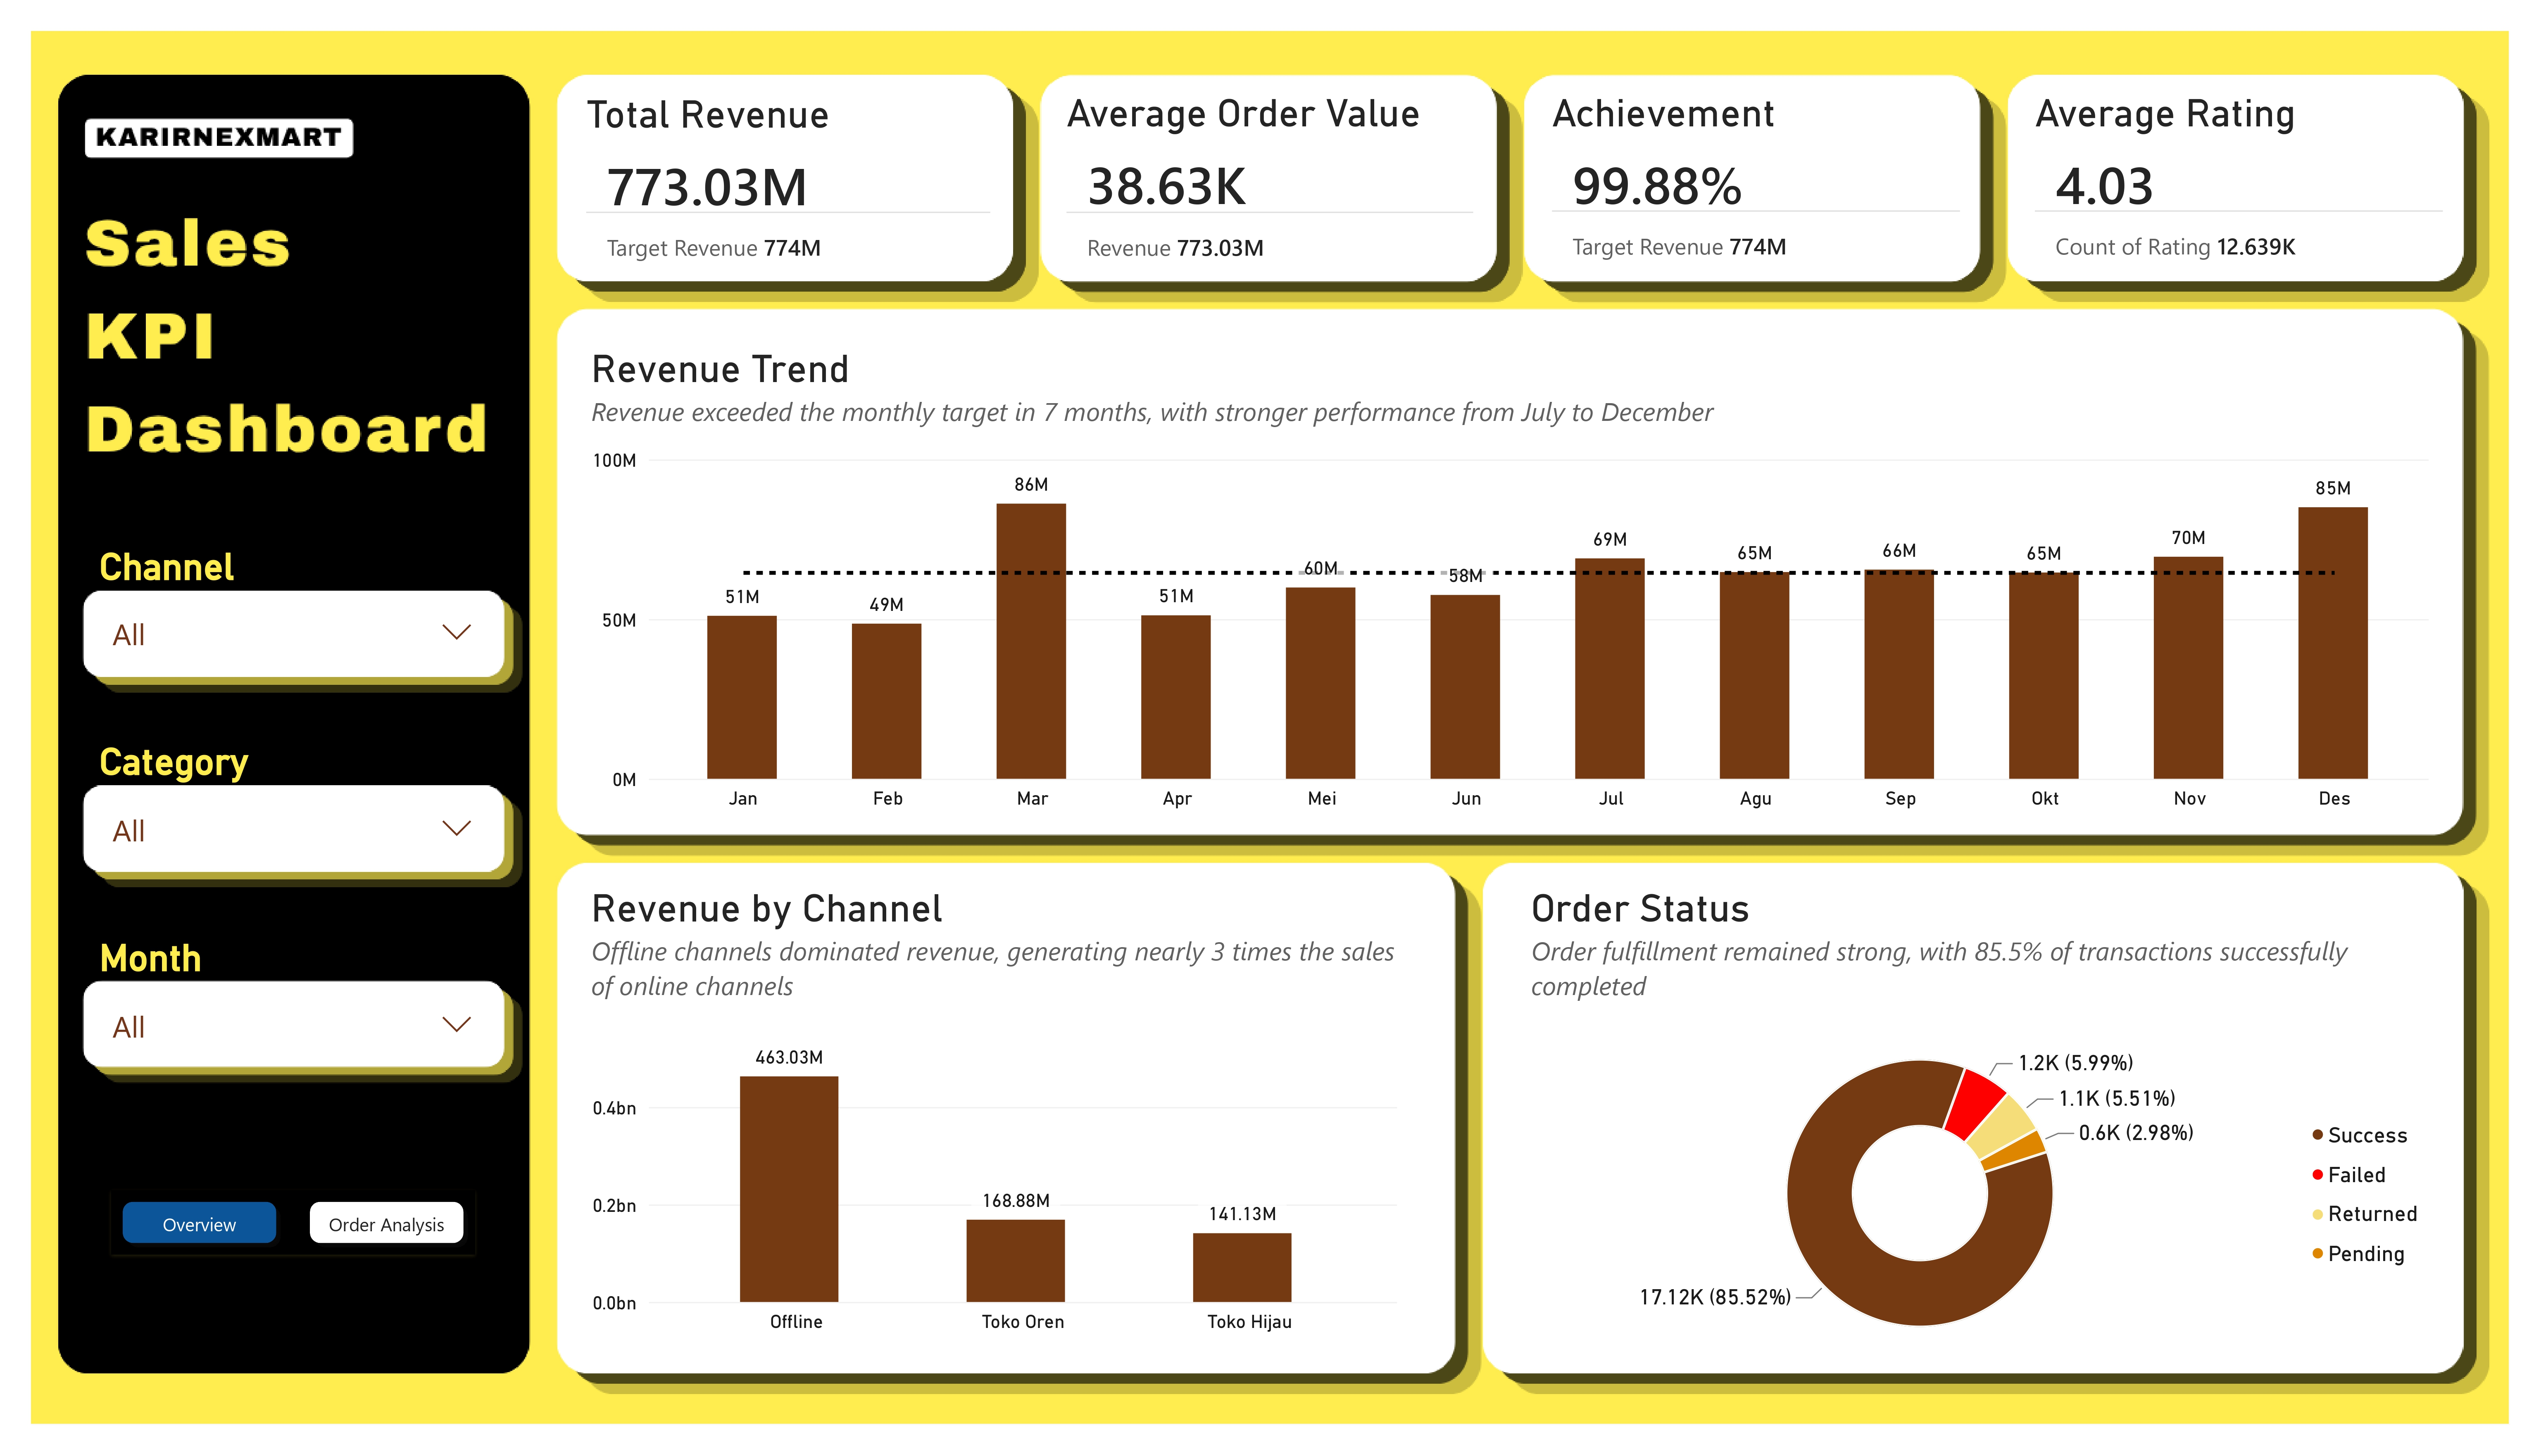

The dashboard page shown, as its layout file describes it:
{"tool":"powerbi","page":{"name":"Overview","canvas":[1920,1080],"ordinal":0},"visuals":[{"type":"image","box":[0,0,1919.3,1078.9],"z":0},{"type":"donutChart","title":"Order Status","fields":{"Category":["Sales.status"],"Y":["CountNonNull(Sales.order_id)"]},"box":[1146,662,728,388],"z":1000},{"type":"lineStackedColumnComboChart","title":"Revenue Trend","fields":{"Category":["Bulan_Target.month_name"],"Y":["Bulan_Target.Revenue"],"Y2":["Bulan_Target.Avg Target Revenue"]},"box":[417.5,230,1455,390],"z":2000},{"type":"cardVisual","title":"Average Rating","fields":{"Data":["Bulan_Target.Avg Rating"]},"box":[1552,46,316,136],"z":3000},{"type":"cardVisual","title":"Total Revenue","fields":{"Data":["Bulan_Target.Revenue"]},"box":[430,46.7,313.3,136.7],"z":4000},{"type":"cardVisual","title":"Achievement","fields":{"Data":["Bulan_Target.Achievement %"]},"box":[1178,46,316.7,136.7],"z":5000},{"type":"lineStackedColumnComboChart","title":"Revenue by Channel","fields":{"Category":["Sales.channel"],"Y":["Bulan_Target.Revenue"]},"box":[418,648,656,378],"z":6000},{"type":"slicer","fields":{"Values":["Sales.channel"]},"box":[52.2,440.6,300,56.7],"z":7000},{"type":"slicer","title":"Tes","fields":{"Values":["Products.category"]},"box":[52.2,592.8,300,56.7],"z":8000},{"type":"slicer","title":"Tes","fields":{"Values":["Bulan_Target.month_name"]},"box":[52.2,745,300,56.7],"z":9000},{"type":"textbox","box":[52.5,397.5,299.8,43.2],"z":10000},{"type":"textbox","box":[52.5,548.8,299.8,43.2],"z":11000},{"type":"textbox","box":[52.5,701.2,299.8,43.2],"z":12000},{"type":"cardVisual","title":"Average Order Value","fields":{"Data":["Bulan_Target.Average Order Value"]},"box":[802,46,315,136.7],"z":13000},{"type":"pageNavigator","box":[62,898,282,50],"z":14000}]}

Visuals, with their boxes on the page's 1920x1080 design canvas (x1, y1, x2, y2). These are canvas units, not pixel positions in the 2541x1456 screenshot, which may show the page scaled, cropped or inside an application window:
image: 0 0 1919 1079
"Order Status" donutChart: 1146 662 1874 1050
"Revenue Trend" lineStackedColumnComboChart: 418 230 1872 620
"Average Rating" cardVisual: 1552 46 1868 182
"Total Revenue" cardVisual: 430 47 743 183
"Achievement" cardVisual: 1178 46 1495 183
"Revenue by Channel" lineStackedColumnComboChart: 418 648 1074 1026
slicer - Sales.channel: 52 441 352 497
"Tes" slicer: 52 593 352 650
"Tes" slicer: 52 745 352 802
textbox: 52 398 352 441
textbox: 52 549 352 592
textbox: 52 701 352 744
"Average Order Value" cardVisual: 802 46 1117 183
pageNavigator: 62 898 344 948
